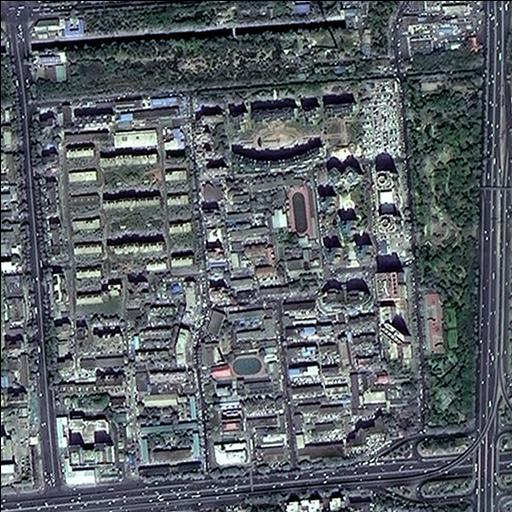school: (271, 175, 320, 277), (198, 353, 267, 398)
